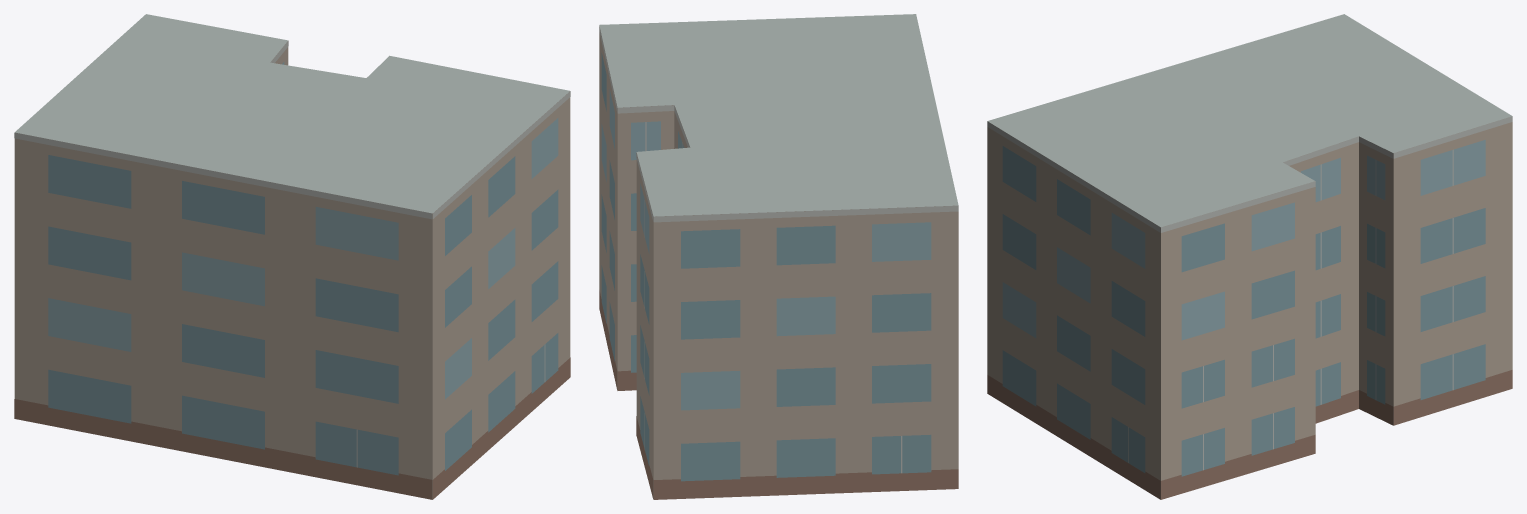
The model's file is survey-upis-32907713.glb.
The picture shows the model from 3 angles, left to right: view 1: azimuth 30°, elevation 25°; view 2: azimuth 150°, elevation 25°; view 3: azimuth 270°, elevation 25°; orthographic projection. The views are drawn at different scales.
Visible parts, largest first — view 1: survey-upis-32907713.tmp; view 2: survey-upis-32907713.tmp; view 3: survey-upis-32907713.tmp.
Boxes of the visible parts, <box> form: survey-upis-32907713.tmp: <box>14,14,570,499</box>; survey-upis-32907713.tmp: <box>599,14,958,499</box>; survey-upis-32907713.tmp: <box>987,14,1512,499</box>.
Bounding box in the file's own units: 19.66 × 11.7 × 20.45.
